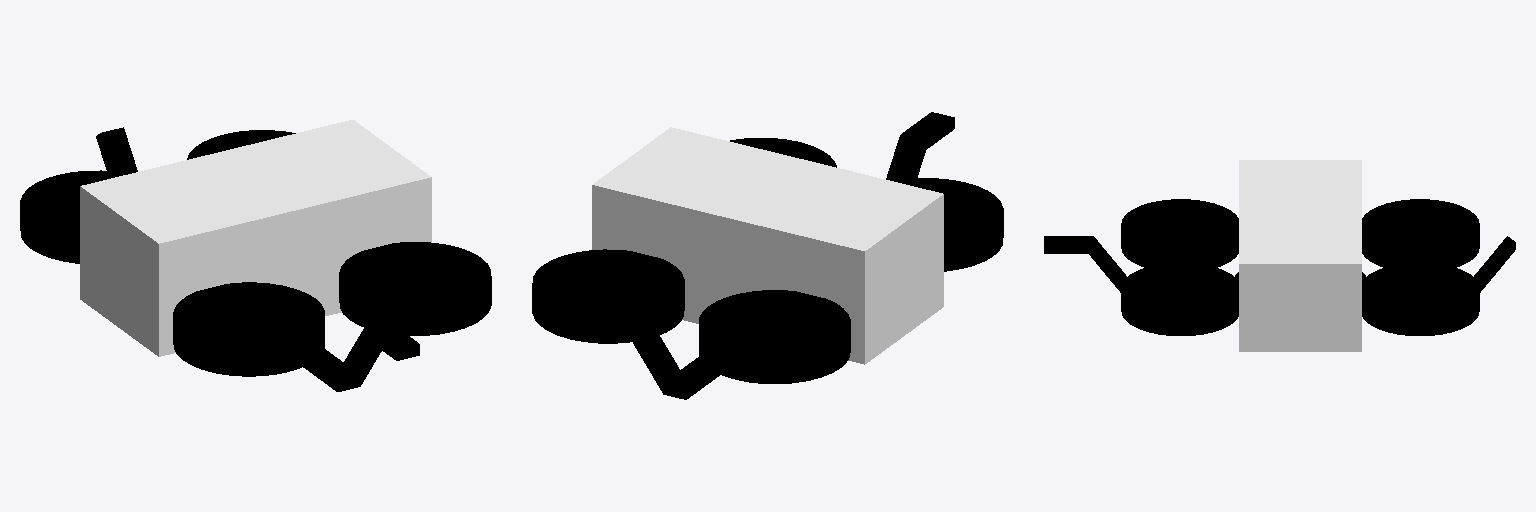
The robot description file, URDF, robot "rob_box":
<?xml version="1.0"?>
<robot name="rob_box" xmlns:xacro="http://www.ros.org/wiki/xacro">

  <!-- Основное шасси -->
  <link name="base_link">
    <visual>
      <origin xyz="0 0 0.09425" rpy="0 0 0"/>
      <geometry>
        <box size="0.4757 0.238 0.1885"/> <!-- Размеры шасси (в метрах) -->
      </geometry>
      <material name="white">
        <color rgba="1 1 1 1"/> <!-- Белый цвет -->
      </material>
    </visual>
    <collision>
      <origin xyz="0 0 0.09425" rpy="0 0 0"/>
      <geometry>
        <box size="0.4757 0.238 0.1885"/>
      </geometry>
    </collision>
    <inertial>
      <mass value="10"/> <!-- Масса шасси -->
      <origin xyz="0 0 0.09425"/>
      <inertia ixx="0.1" ixy="0" ixz="0" iyy="0.1" iyz="0" izz="0.1"/>
    </inertial>
  </link>

  <!-- Левый рокер -->
  <link name="left_rocker">
    <visual>
      <origin xyz="0 0 0" rpy="0 0 0"/>
      <geometry>
        <mesh filename="package://rob_box_description/meshes/rocker.stl" scale="0.001 0.001 0.001"/>
      </geometry>
      <material name="black">
        <color rgba="0 0 0 1"/> <!-- Черный цвет -->
      </material>
    </visual>
    <collision>
      <origin xyz="0 0 0" rpy="0 0 0"/>
      <geometry>
        <box size="0.28934 0.05 0.01"/> <!-- Прокси для коллизии -->
      </geometry>
    </collision>
    <inertial>
      <mass value="3"/>
      <origin xyz="0 0 0"/>
      <inertia ixx="0.02" ixy="0" ixz="0" iyy="0.02" iyz="0" izz="0.02"/>
    </inertial>
  </link>

  <!-- Правый рокер -->
  <link name="right_rocker">
    <visual>
      <origin xyz="0 0 0" rpy="0 0 0"/>
      <geometry>
        <mesh filename="package://rob_box_description/meshes/rocker.stl" scale="0.001 0.001 0.001"/>
      </geometry>
      <material name="black">
        <color rgba="0 0 0 1"/> <!-- Черный цвет -->
      </material>
    </visual>
    <collision>
      <origin xyz="0 0 0" rpy="0 0 0"/>
      <geometry>
        <box size="0.28934 0.05 0.01"/> <!-- Прокси для коллизии -->
      </geometry>
    </collision>
    <inertial>
      <mass value="3"/>
      <origin xyz="0 0 0"/>
      <inertia ixx="0.02" ixy="0" ixz="0" iyy="0.02" iyz="0" izz="0.02"/>
    </inertial>
  </link>

  <!-- Соединение левого рокера с шасси -->
  <joint name="left_rocker_joint" type="revolute">
    <parent link="base_link"/>
    <child link="left_rocker"/>
    <origin xyz="0 0.23048 0.09425" rpy="0 0 0"/> <!-- Положение рокера -->
    <axis xyz="0 1 0"/> <!-- Ось вращения -->
    <limit effort="10" velocity="1" lower="-0.5" upper="0.5"/>
  </joint>

  <!-- Соединение правого рокера с шасси -->
  <joint name="right_rocker_joint" type="revolute">
    <parent link="base_link"/>
    <child link="right_rocker"/>
    <origin xyz="0 -0.23048 0.09425" rpy="0 0 0"/> <!-- Положение рокера -->
    <axis xyz="0 1 0"/> <!-- Ось вращения -->
    <limit effort="10" velocity="1" lower="-0.5" upper="0.5"/>
  </joint>

  <!-- Колеса -->
  <link name="left_front_wheel">
    <visual>
      <origin xyz="0 0 0" rpy="0 0 0"/>
      <geometry>
        <cylinder radius="0.115" length="0.05"/> <!-- Радиус и ширина колеса -->
      </geometry>
      <material name="black"/>
    </visual>
    <collision>
      <origin xyz="0 0 0" rpy="0 0 0"/>
      <geometry>
        <cylinder radius="0.115" length="0.05"/>
      </geometry>
    </collision>
    <inertial>
      <mass value="2"/>
      <origin xyz="0 0 0"/>
      <inertia ixx="0.01" ixy="0" ixz="0" iyy="0.01" iyz="0" izz="0.01"/>
    </inertial>
  </link>

  <link name="left_rear_wheel">
    <visual>
      <origin xyz="0 0 0" rpy="0 0 0"/>
      <geometry>
        <cylinder radius="0.115" length="0.05"/>
      </geometry>
      <material name="black"/>
    </visual>
    <collision>
      <origin xyz="0 0 0" rpy="0 0 0"/>
      <geometry>
        <cylinder radius="0.115" length="0.05"/>
      </geometry>
    </collision>
    <inertial>
      <mass value="2"/>
      <origin xyz="0 0 0"/>
      <inertia ixx="0.01" ixy="0" ixz="0" iyy="0.01" iyz="0" izz="0.01"/>
    </inertial>
  </link>

  <link name="right_front_wheel">
    <visual>
      <origin xyz="0 0 0" rpy="0 0 0"/>
      <geometry>
        <cylinder radius="0.115" length="0.05"/>
      </geometry>
      <material name="black"/>
    </visual>
    <collision>
      <origin xyz="0 0 0" rpy="0 0 0"/>
      <geometry>
        <cylinder radius="0.115" length="0.05"/>
      </geometry>
    </collision>
    <inertial>
      <mass value="2"/>
      <origin xyz="0 0 0"/>
      <inertia ixx="0.01" ixy="0" ixz="0" iyy="0.01" iyz="0" izz="0.01"/>
    </inertial>
  </link>

  <link name="right_rear_wheel">
    <visual>
      <origin xyz="0 0 0" rpy="0 0 0"/>
      <geometry>
        <cylinder radius="0.115" length="0.05"/>
      </geometry>
      <material name="black"/>
    </visual>
    <collision>
      <origin xyz="0 0 0" rpy="0 0 0"/>
      <geometry>
        <cylinder radius="0.115" length="0.05"/>
      </geometry>
    </collision>
    <inertial>
      <mass value="2"/>
      <origin xyz="0 0 0"/>
      <inertia ixx="0.01" ixy="0" ixz="0" iyy="0.01" iyz="0" izz="0.01"/>
    </inertial>
  </link>

  <!-- Крепление колес к левому рокеру -->
  <joint name="left_front_wheel_joint" type="continuous">
    <parent link="left_rocker"/>
    <child link="left_front_wheel"/>
    <origin xyz="0.14467 0 -0.025" rpy="0 0 0"/> <!-- Позиция крепления -->
    <axis xyz="0 1 0"/> <!-- Ось вращения -->
  </joint>

  <joint name="left_rear_wheel_joint" type="continuous">
    <parent link="left_rocker"/>
    <child link="left_rear_wheel"/>
    <origin xyz="-0.14467 0 -0.025" rpy="0 0 0"/> <!-- Позиция крепления -->
    <axis xyz="0 1 0"/> <!-- Ось вращения -->
  </joint>

  <!-- Крепление колес к правому рокеру -->
  <joint name="right_front_wheel_joint" type="continuous">
    <parent link="right_rocker"/>
    <child link="right_front_wheel"/>
    <origin xyz="0.14467 0 -0.025" rpy="0 0 0"/> <!-- Позиция крепления -->
    <axis xyz="0 1 0"/> <!-- Ось вращения -->
  </joint>

  <joint name="right_rear_wheel_joint" type="continuous">
    <parent link="right_rocker"/>
    <child link="right_rear_wheel"/>
    <origin xyz="-0.14467 0 -0.025" rpy="0 0 0"/> <!-- Позиция крепления -->
    <axis xyz="0 1 0"/> <!-- Ось вращения -->
  </joint>

</robot>

--- Facts derived from the render (not from the file) ---
Views: 3 orthographic renders of the robot side by side, from view 1: azimuth 30°, elevation 25°; view 2: azimuth 150°, elevation 25°; view 3: azimuth 270°, elevation 25°.
Model rob_box with 7 links and 6 joints (2 revolute, 4 continuous), rooted at base_link, posed every joint at zero.
Visible links, largest first — view 1: base_link, right_rear_wheel, right_front_wheel, left_rear_wheel, right_rocker, left_rocker, left_front_wheel; view 2: base_link, left_rear_wheel, left_front_wheel, right_rear_wheel, left_rocker, right_rocker, right_front_wheel; view 3: base_link, right_front_wheel, left_front_wheel, right_rear_wheel, left_rear_wheel, right_rocker, left_rocker.
Link boxes in pixels (<box>): base_link: <box>80,120,431,356</box>; right_rear_wheel: <box>173,282,324,376</box>; right_front_wheel: <box>339,242,491,335</box>; left_rear_wheel: <box>20,170,128,263</box>; right_rocker: <box>303,321,419,391</box>; left_rocker: <box>96,127,137,173</box>; left_front_wheel: <box>187,130,295,159</box>; base_link: <box>592,127,943,364</box>; left_rear_wheel: <box>699,290,850,383</box>; left_front_wheel: <box>532,249,684,343</box>; right_rear_wheel: <box>894,178,1003,271</box>; left_rocker: <box>631,328,719,399</box>; right_rocker: <box>886,112,954,180</box>; right_front_wheel: <box>730,138,836,167</box>; base_link: <box>1239,160,1361,351</box>; right_front_wheel: <box>1121,263,1238,335</box>; left_front_wheel: <box>1362,263,1479,335</box>; right_rear_wheel: <box>1121,199,1238,267</box>; left_rear_wheel: <box>1362,199,1479,267</box>; right_rocker: <box>1044,236,1238,292</box>; left_rocker: <box>1362,236,1515,292</box>.
Size in the robot's own frame: 0.5193 by 0.908 by 0.2142 metres.
Meshes: 1 distinct files referenced, 2 mesh visuals loaded (1 binary STL).
